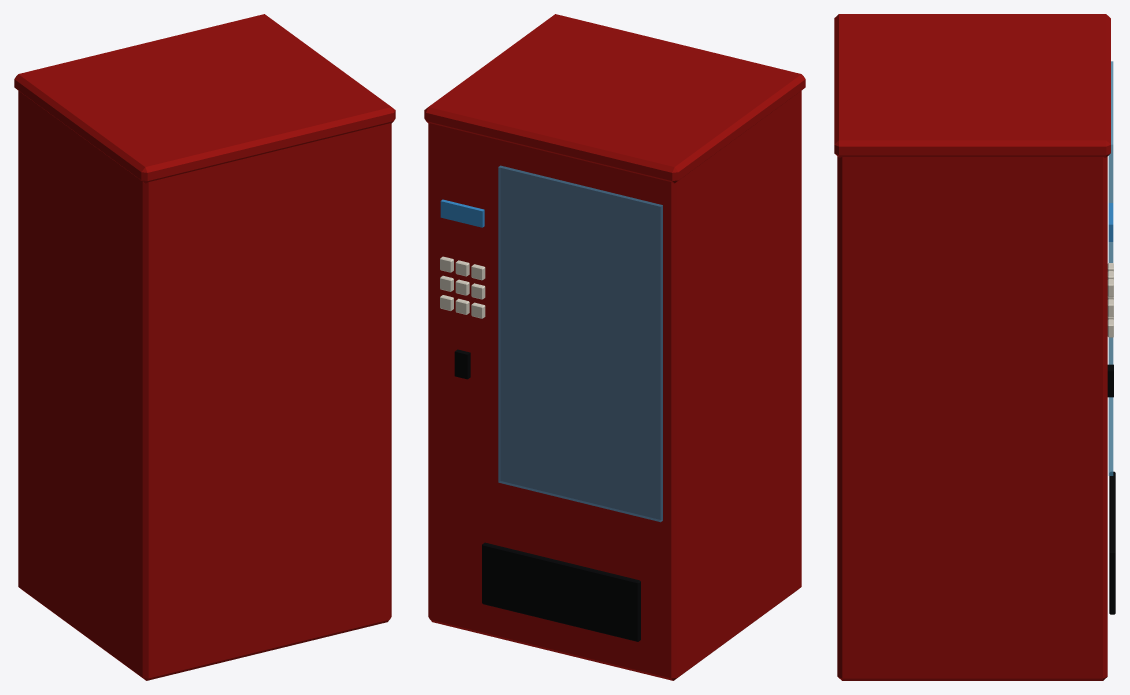
File: INTERIOR_09_VendingMachine.obj
3 views of the same model, side by side, from view 1: azimuth 30°, elevation 25°; view 2: azimuth 150°, elevation 25°; view 3: azimuth 270°, elevation 25° (orthographic). The views are drawn at different scales.
Visible parts, largest first — view 1: INTERIOR_09_VendingMachine_Cabinet; view 2: INTERIOR_09_VendingMachine_Cabinet, INTERIOR_09_VendingMachine_Window_Glass, INTERIOR_09_VendingMachine_Dispensing_Flap, INTERIOR_09_VendingMachine_Keypad, INTERIOR_09_VendingMachine_Display; view 3: INTERIOR_09_VendingMachine_Cabinet, INTERIOR_09_VendingMachine_Window_Glass, INTERIOR_09_VendingMachine_Dispensing_Flap, INTERIOR_09_VendingMachine_Keypad.
Part boxes in pixels (x1,y1,x2,y2): INTERIOR_09_VendingMachine_Cabinet: (14, 14, 395, 680); INTERIOR_09_VendingMachine_Cabinet: (424, 14, 805, 680); INTERIOR_09_VendingMachine_Window_Glass: (498, 165, 662, 522); INTERIOR_09_VendingMachine_Dispensing_Flap: (482, 542, 640, 641); INTERIOR_09_VendingMachine_Keypad: (440, 256, 485, 318); INTERIOR_09_VendingMachine_Display: (440, 199, 484, 227); INTERIOR_09_VendingMachine_Cabinet: (834, 14, 1110, 680); INTERIOR_09_VendingMachine_Window_Glass: (1108, 61, 1113, 475); INTERIOR_09_VendingMachine_Dispensing_Flap: (1109, 471, 1115, 614); INTERIOR_09_VendingMachine_Keypad: (1107, 263, 1113, 337).
Bounding box in the file's own units: 0.97 × 1.88 × 0.885.
